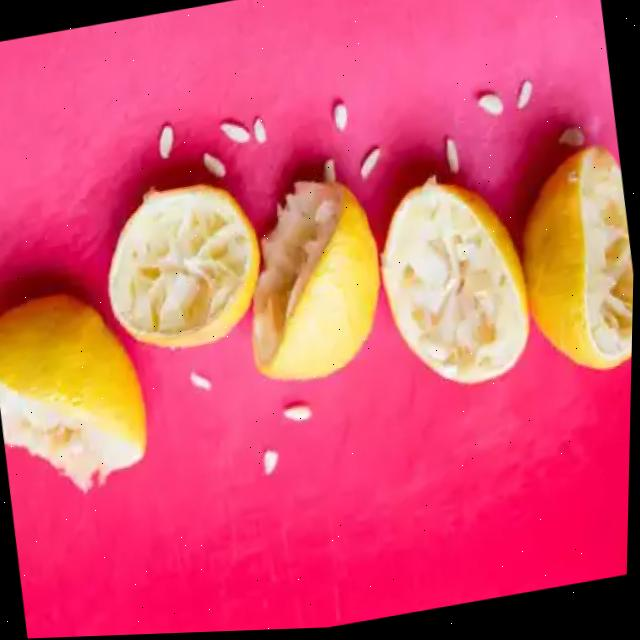Wet: (371, 167, 541, 403), (232, 170, 396, 392), (0, 281, 159, 502), (97, 173, 273, 360), (507, 148, 637, 389)
